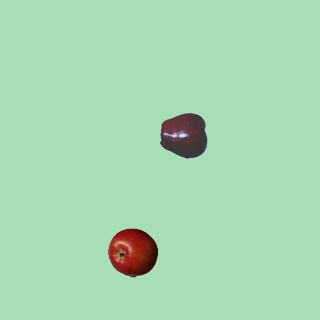Apple Braeburn: (107, 227, 157, 277)
Apple Red Delicious: (159, 110, 209, 160)
